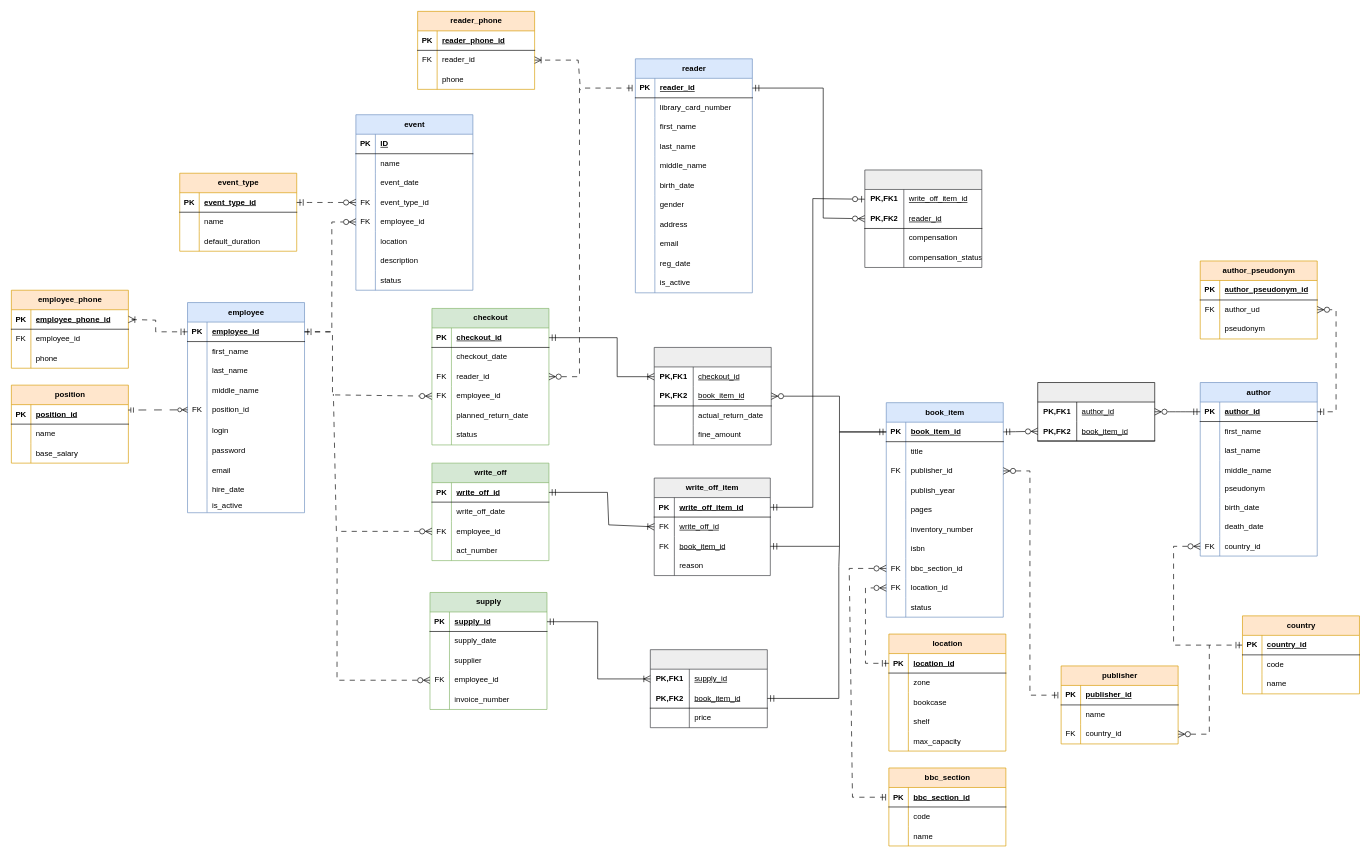
This 1371x857 diagram has some shape labels left out. Here are the shapes that lost their labels. From the top down, the box of each, then its label:
(864, 169, 982, 267): write_off_reader
(654, 347, 771, 445): checkout_item
(1037, 382, 1155, 441): book_author
(650, 649, 767, 728): supply_item
